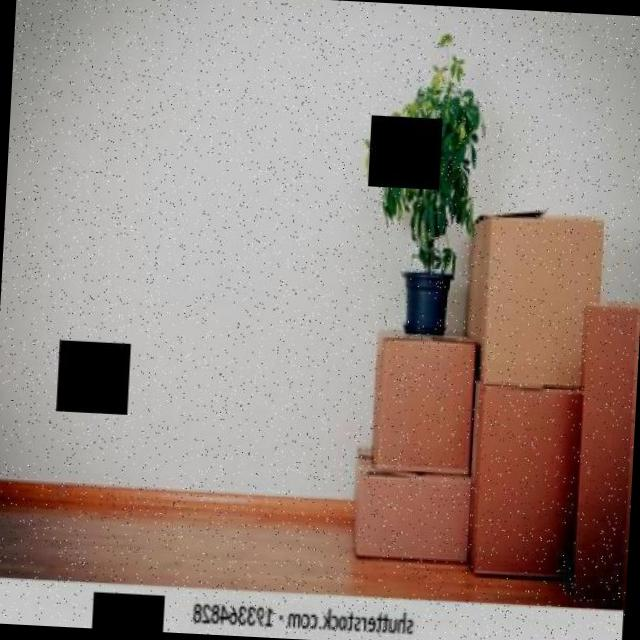box: (469, 384, 584, 575), (568, 306, 638, 610), (470, 214, 602, 368), (371, 338, 478, 470), (348, 465, 474, 564)
